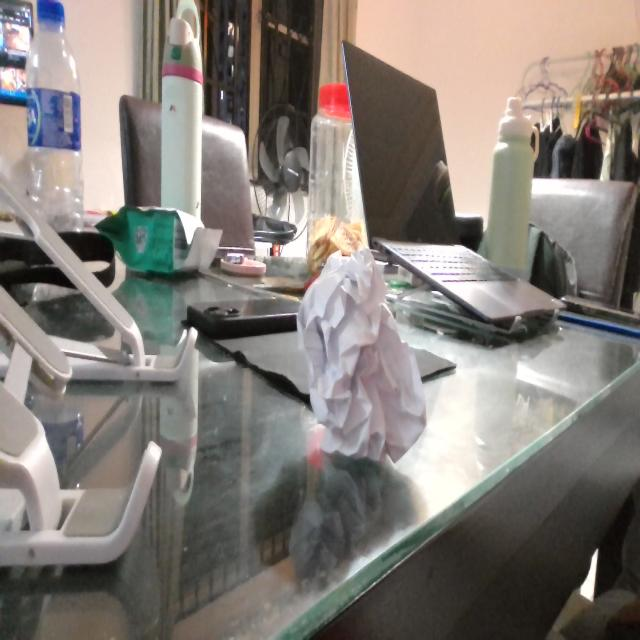crumpled_paper: (297, 243, 428, 466)
